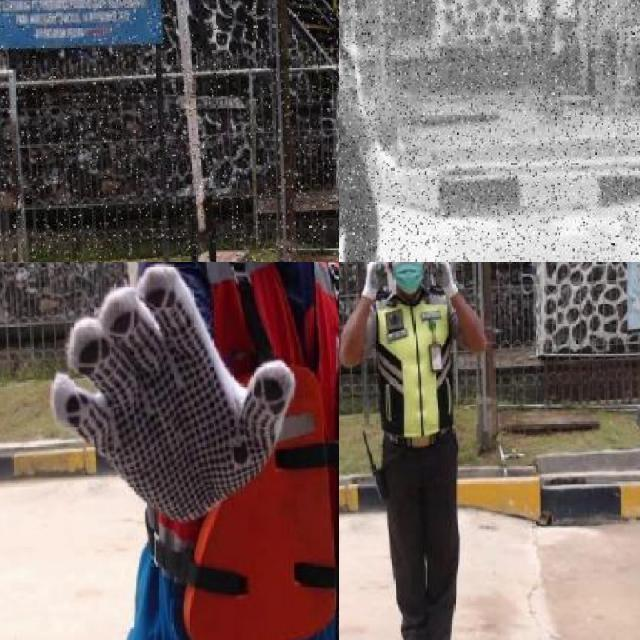apron: (48, 262, 295, 523), (364, 135, 409, 204), (424, 262, 459, 301), (358, 262, 392, 302)
